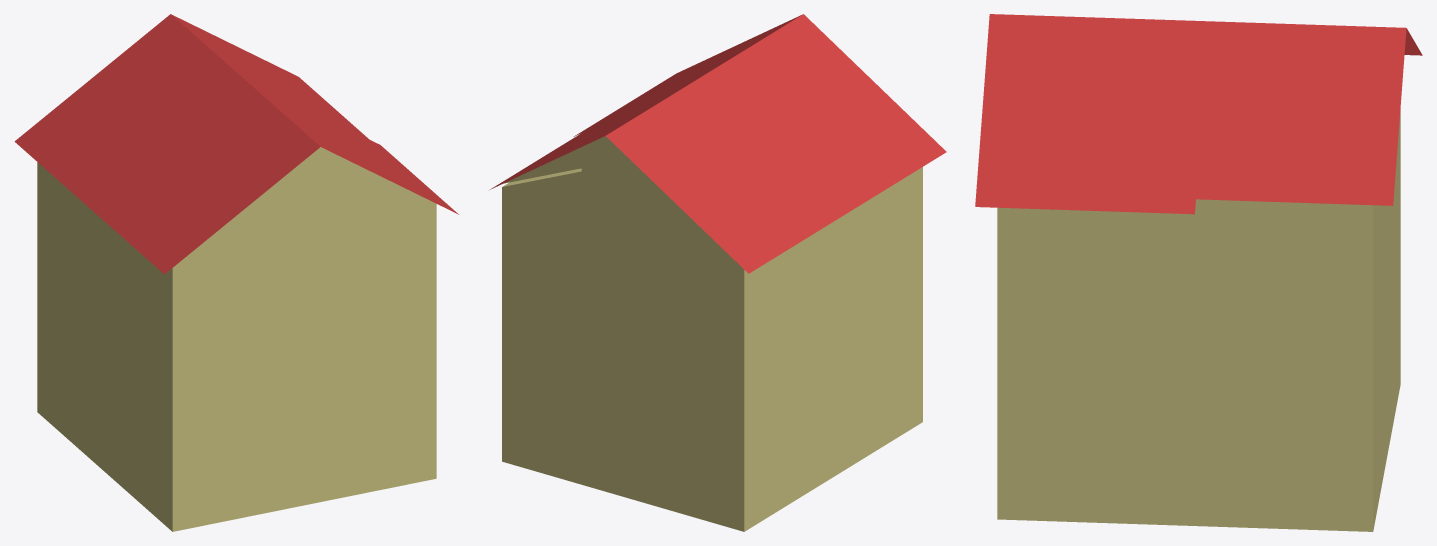
3 views of the same model, side by side, from view 1: azimuth 30°, elevation 25°; view 2: azimuth 150°, elevation 25°; view 3: azimuth 270°, elevation 25° (orthographic). The views are drawn at different scales.
Bounding box in the file's own units: 9.97 × 10.9 × 11.71.
